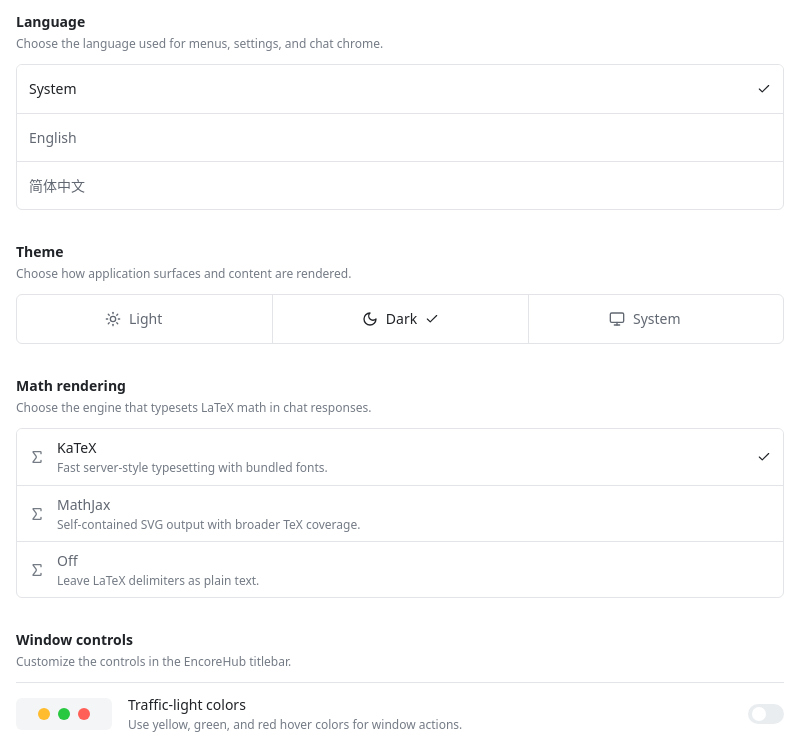
Scenario: AppearancePanel › lists registered languages instead of a hardcoded pair
The width and height of the screenshot is (801, 732).
Expected: the heading "Language" is shown, [16,12,85,31]
Expected: the 1st button "System" is shown, [17,65,783,113]
Click the button "简体中文" at [57, 185], box [17,161,783,209]
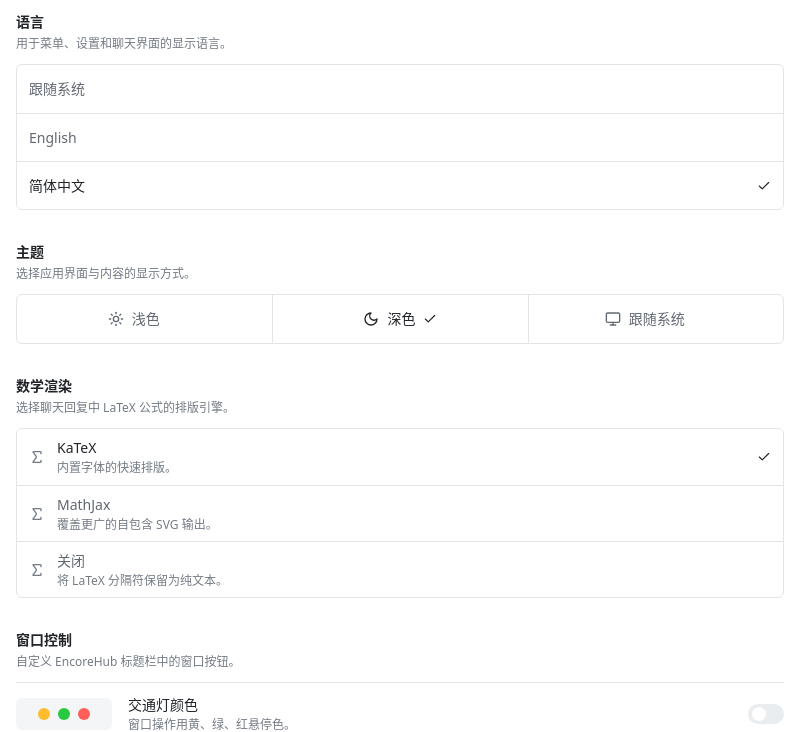
Expected: the heading "语言" is shown, [16,12,44,31]
